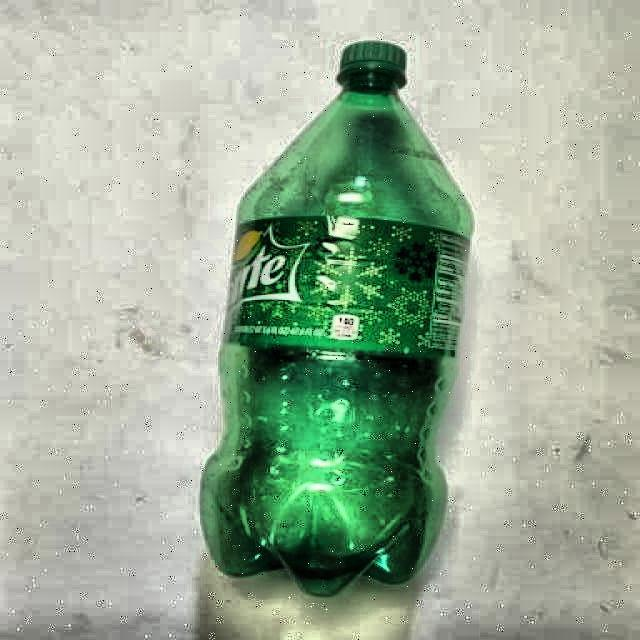plastic: (201, 41, 472, 594)
